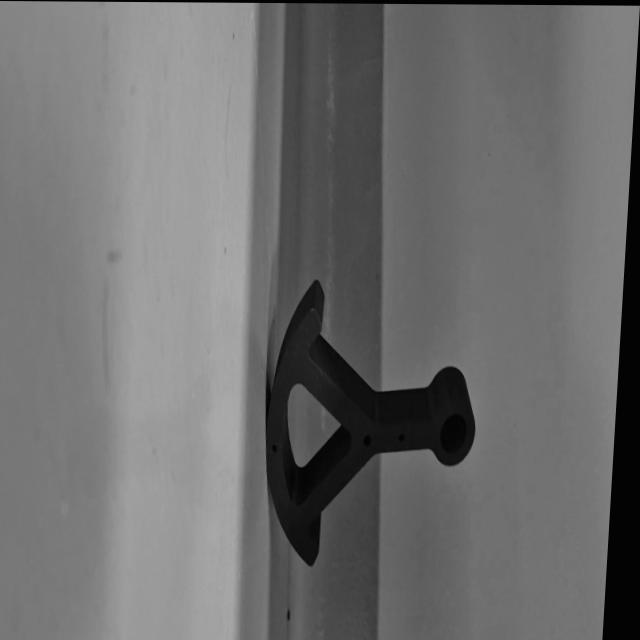haptic: (256, 275, 486, 570)
